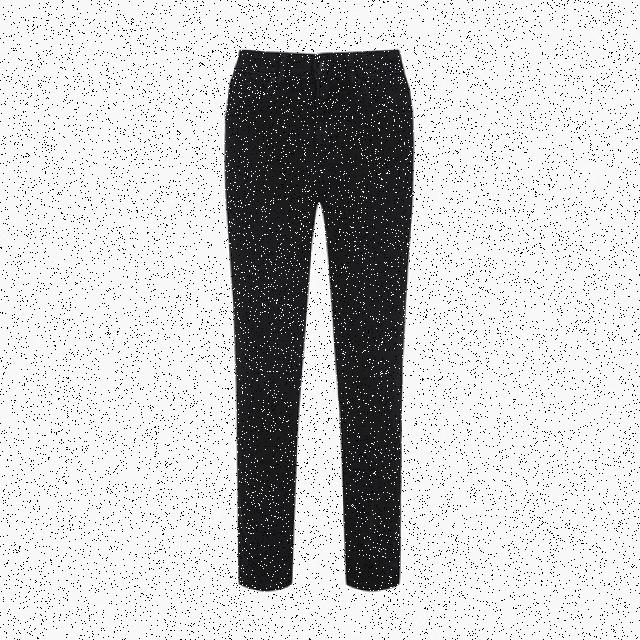Blouse_deep: (219, 42, 415, 588)
